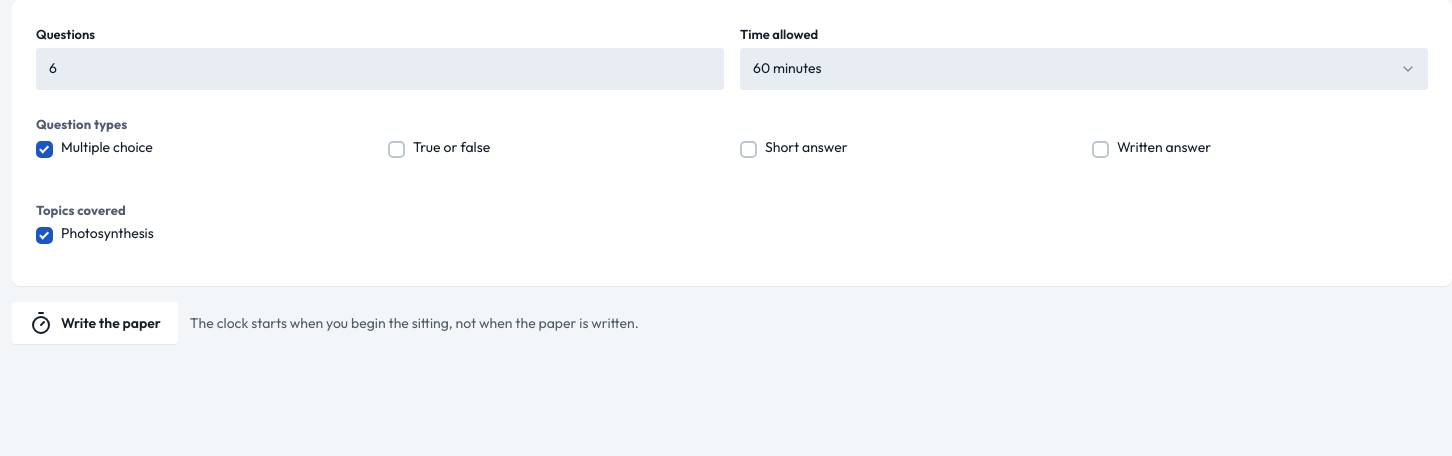
Test: ExamMockExamBuilder › refuses a paper too short to carry every question type it was given
The width and height of the screenshot is (1452, 456).
Click the checkbox labelled "True or false".
click(396, 150)  # box left=388, top=141, right=405, bottom=158
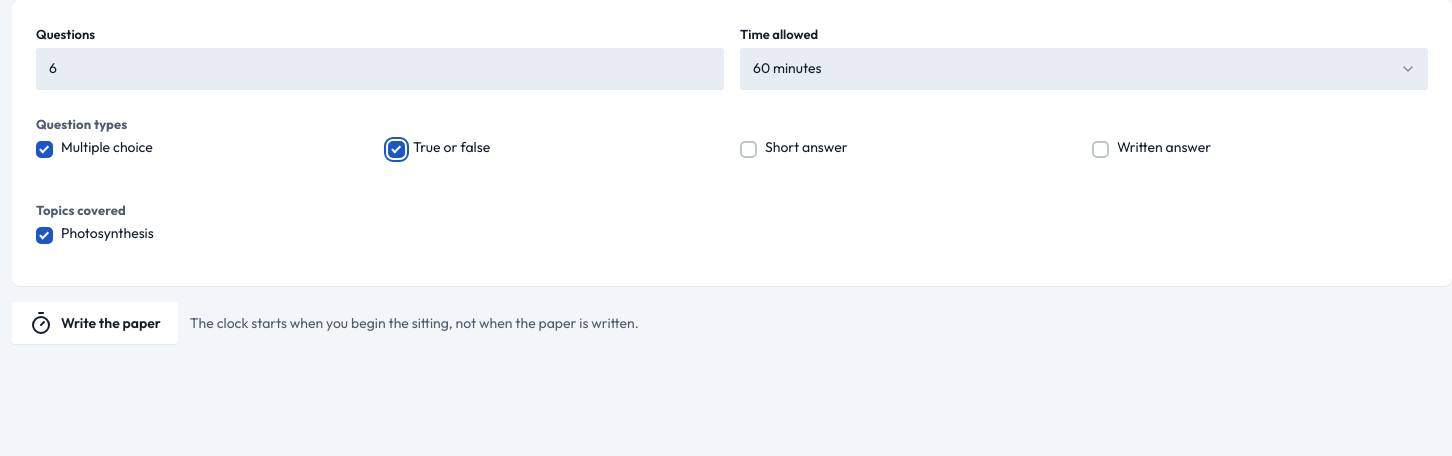
Click the checkbox labelled "Short answer".
click(748, 150)  # box left=740, top=141, right=757, bottom=158
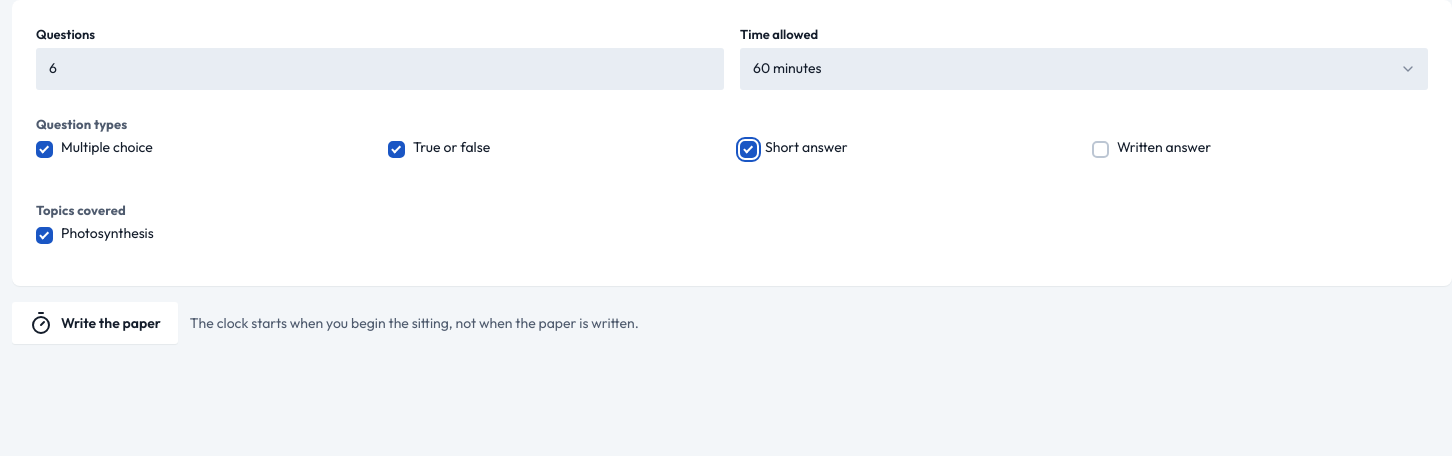
Replace the text in the number field labelled "Questions" with "2" at (380,69), box left=36, top=48, right=724, bottom=90
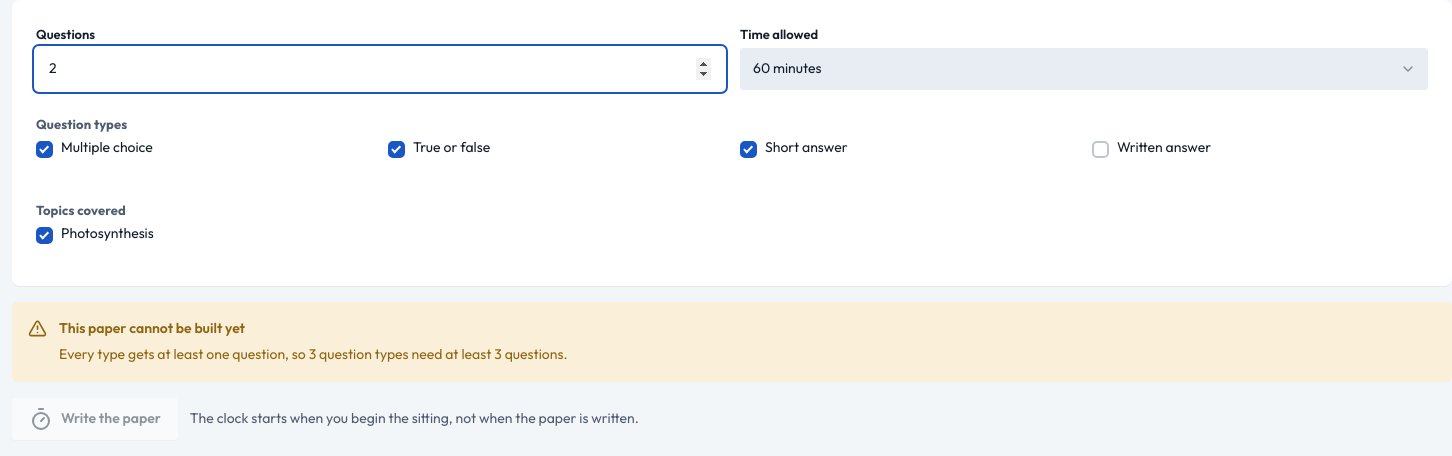
Check: the button "Write the paper" is disabled, box left=12, top=398, right=178, bottom=440
Check: the text "Every type gets at least one question, so 3 question types need at least 3 questions." is shown, box left=59, top=345, right=568, bottom=363
